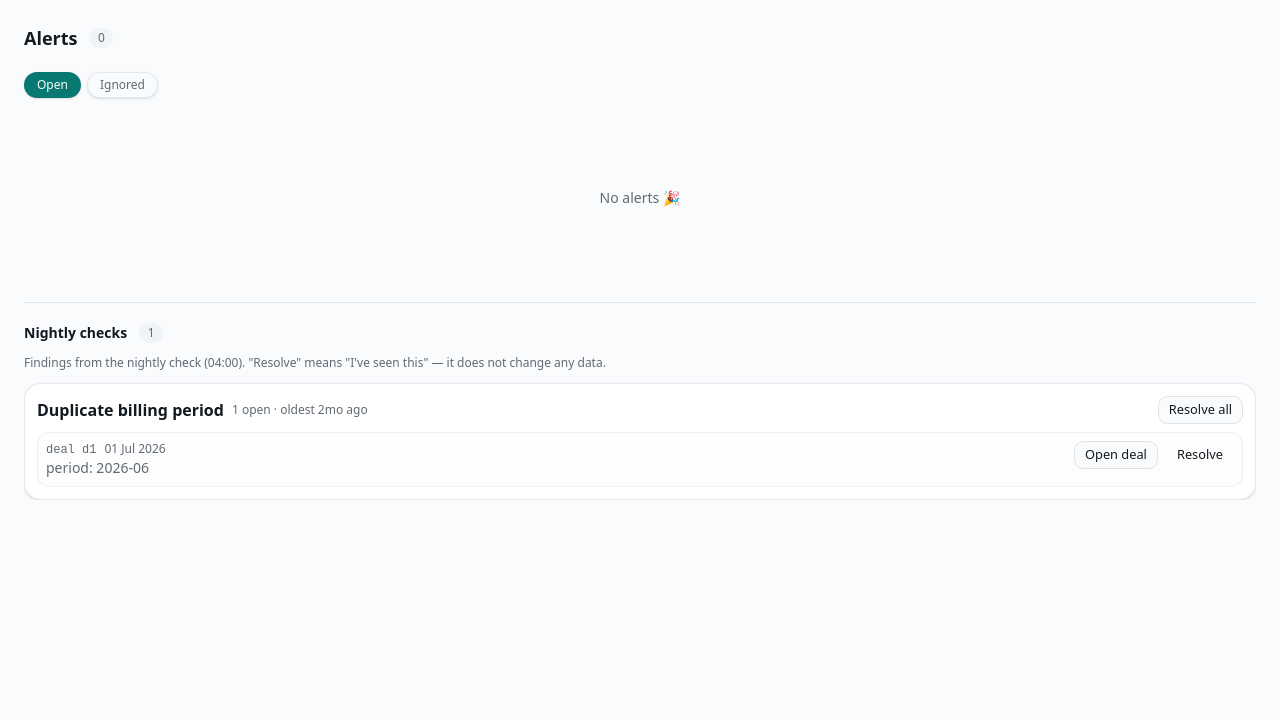
it: AlertsPage — nightly checks "Resolve all" confirmation (I5) › does not resolve immediately — it opens a confirm dialog first
This screenshot has width=1280, height=720.
What coordinates should you click on to do the following:
click the button "Resolve all"
I would click on:
 (1200, 410)
Its box is [1158,396,1243,424].
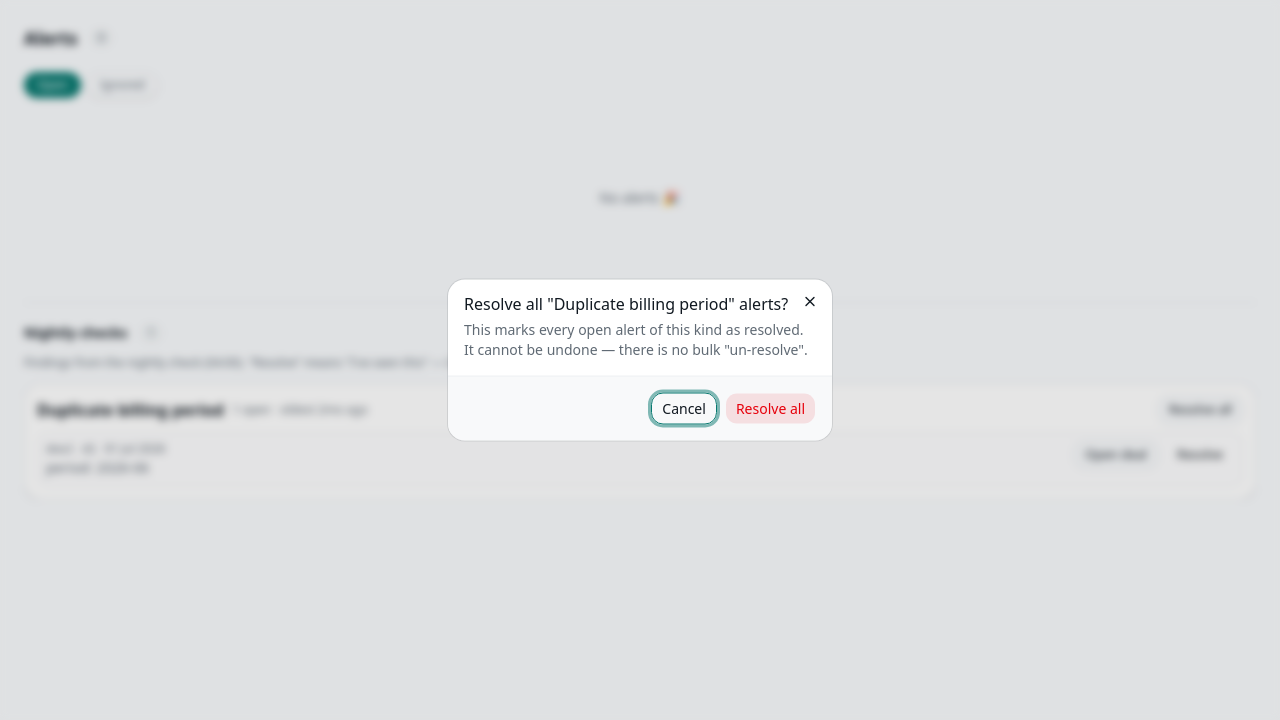
expect the text "This marks every open alert of this kind as resolved. It cannot be undone — there is no bulk \"un-resolve\"." is shown: met, box [464,320,808,358]
